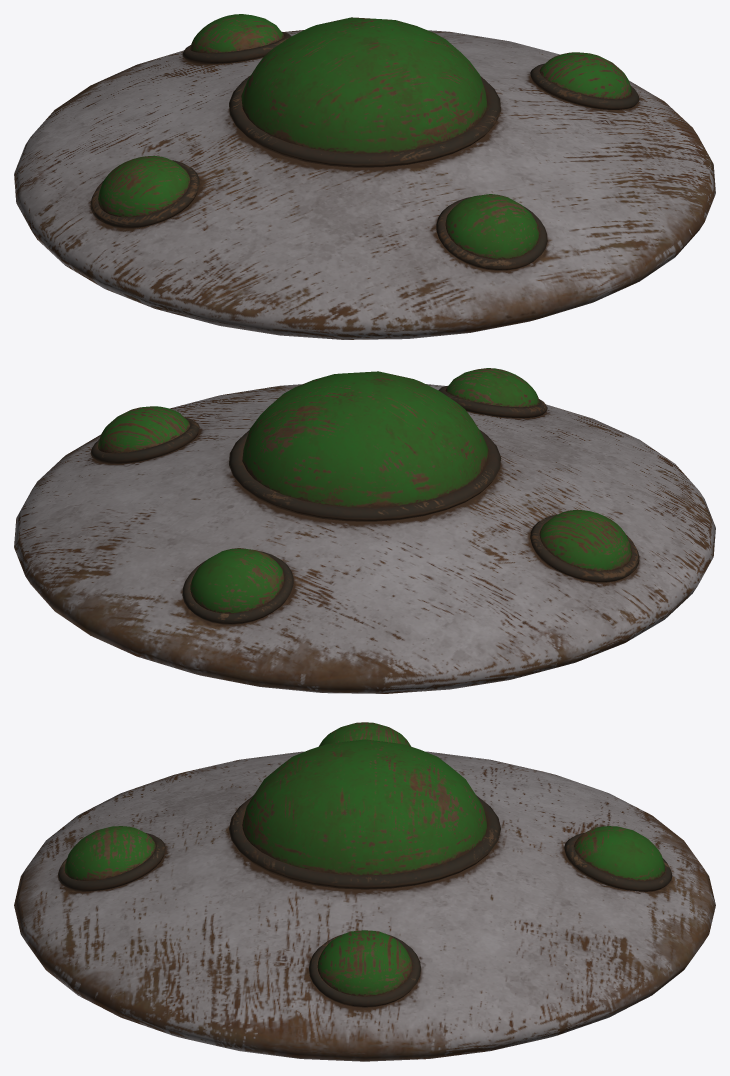
The model's file is Wooden_UFO_Toy.fbx.
The picture shows the model from 3 angles, top to bottom: view 1: azimuth 30°, elevation 25°; view 2: azimuth 150°, elevation 25°; view 3: azimuth 270°, elevation 25°; orthographic projection.
Parts seen in each view (by area): view 1: Circle; view 2: Circle; view 3: Circle.
Part boxes in pixels (bbox=[...]): Circle: bbox=[14, 14, 715, 339]; Circle: bbox=[14, 368, 715, 693]; Circle: bbox=[14, 722, 715, 1061].
Size of the model in its own units: 117 by 37.21 by 117.
